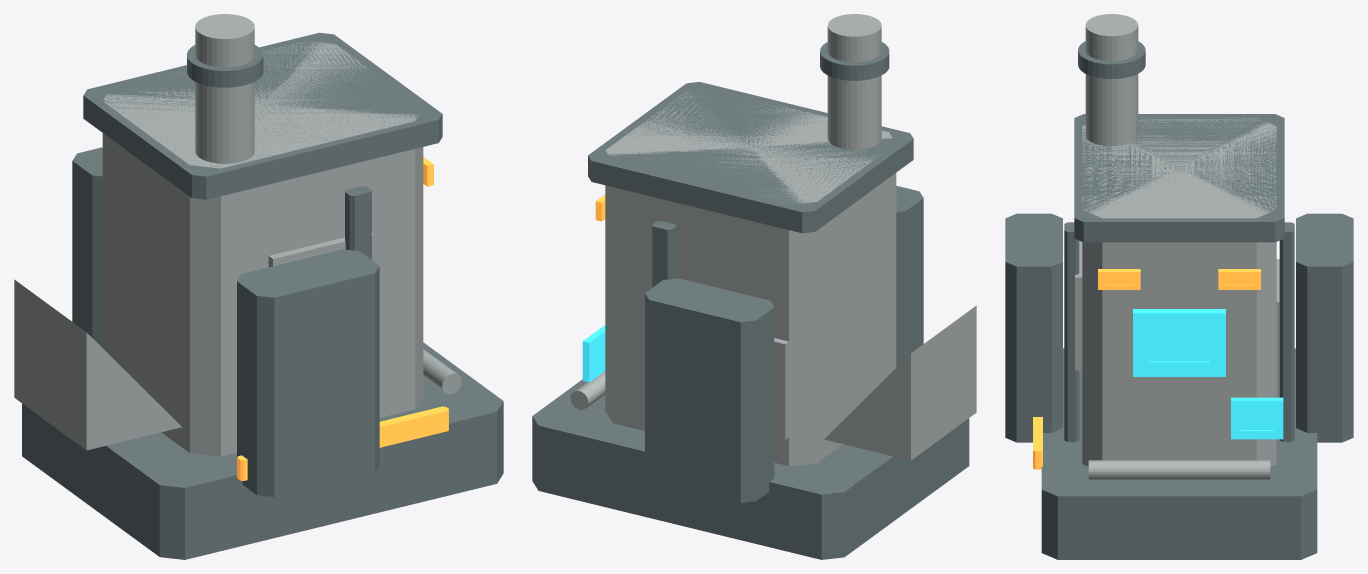
The model's file is refinery-processor-lod0.glb.
3 views of the same model, side by side, from view 1: azimuth 30°, elevation 25°; view 2: azimuth 150°, elevation 25°; view 3: azimuth 270°, elevation 25° (orthographic). The views are drawn at different scales.
Visible parts, largest first — view 1: refinery-processor-core, refinery-processor-base, refinery-processor-sidecar-left, refinery-processor-top-cap, refinery-processor-ore-intake, refinery-processor-exhaust-stack, refinery-processor-sidecar-right, refinery-processor-hazard-band, refinery-processor-exhaust-collar, refinery-processor-rib-left, refinery-processor-access-panel-forward, refinery-processor-service-line; view 2: refinery-processor-core, refinery-processor-base, refinery-processor-sidecar-right, refinery-processor-top-cap, refinery-processor-ore-intake, refinery-processor-exhaust-stack, refinery-processor-sidecar-left, refinery-processor-exhaust-collar, refinery-processor-access-panel-aft, refinery-processor-rib-right, refinery-processor-maintenance-screen, refinery-processor-service-line; view 3: refinery-processor-core, refinery-processor-base, refinery-processor-top-cap, refinery-processor-sidecar-right, refinery-processor-sidecar-left, refinery-processor-status, refinery-processor-exhaust-stack, refinery-processor-service-line, refinery-processor-rib-right, refinery-processor-rib-left, refinery-processor-maintenance-screen, refinery-processor-exhaust-collar (+5 smaller).
Part boxes in pixels (x1,y1,x2,y2): refinery-processor-core: (102,41,423,456); refinery-processor-base: (22,342,503,559); refinery-processor-sidecar-left: (237,249,379,496); refinery-processor-top-cap: (83,32,442,199); refinery-processor-ore-intake: (14,279,181,450); refinery-processor-exhaust-stack: (195,14,254,163); refinery-processor-sidecar-right: (72,147,102,347); refinery-processor-hazard-band: (237,406,448,480); refinery-processor-exhaust-collar: (187,45,263,87); refinery-processor-rib-left: (345,186,371,259); refinery-processor-access-panel-forward: (268,233,373,266); refinery-processor-service-line: (423,349,461,394); refinery-processor-core: (605,91,896,466); refinery-processor-base: (532,379,969,559); refinery-processor-sidecar-right: (645,278,774,502); refinery-processor-top-cap: (588,82,913,233); refinery-processor-ore-intake: (824,305,976,460); refinery-processor-exhaust-stack: (827,14,881,149); refinery-processor-sidecar-left: (896,185,923,367); refinery-processor-exhaust-collar: (820,42,889,80); refinery-processor-access-panel-aft: (774,338,788,439); refinery-processor-rib-right: (652,221,676,287); refinery-processor-maintenance-screen: (582,325,605,382); refinery-processor-service-line: (570,371,605,409); refinery-processor-core: (1082,117,1276,466); refinery-processor-base: (1041,348,1317,559); refinery-processor-top-cap: (1074,114,1284,242); refinery-processor-sidecar-right: (1296,213,1353,442); refinery-processor-sidecar-left: (1005,213,1062,442); refinery-processor-status: (1133,309,1225,376); refinery-processor-exhaust-stack: (1085,14,1138,146); refinery-processor-service-line: (1088,460,1270,480); refinery-processor-rib-right: (1279,222,1294,441); refinery-processor-rib-left: (1064,222,1079,441); refinery-processor-maintenance-screen: (1231,397,1283,439); refinery-processor-exhaust-collar: (1078,41,1145,78).
Bounding box in the file's own units: 3.13 × 3.77 × 2.78.
